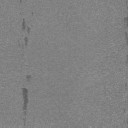red iron: (22, 88, 28, 110), (22, 18, 26, 30), (125, 32, 128, 45), (24, 37, 28, 46), (26, 75, 31, 82)
